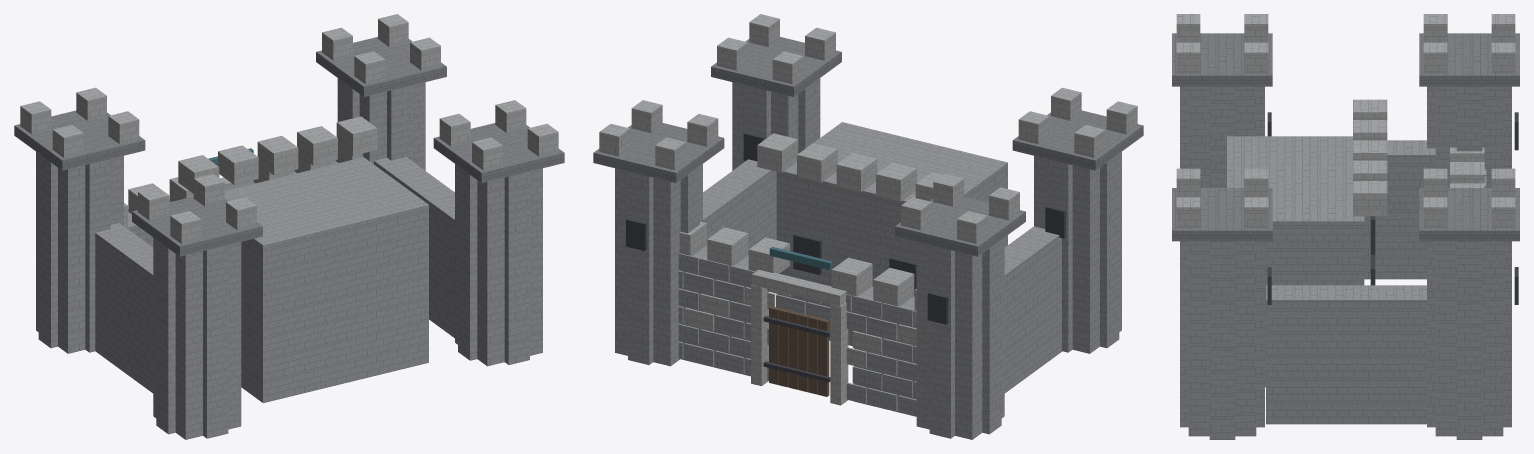
Rendered from castle.glb.
The picture shows the model from 3 angles, left to right: view 1: azimuth 30°, elevation 25°; view 2: azimuth 150°, elevation 25°; view 3: azimuth 270°, elevation 25°; orthographic projection. The views are drawn at different scales.
Bounding box in the file's own units: 10.2 × 5.64 × 7.6.
Materials: 6 (6 with a texture image).
